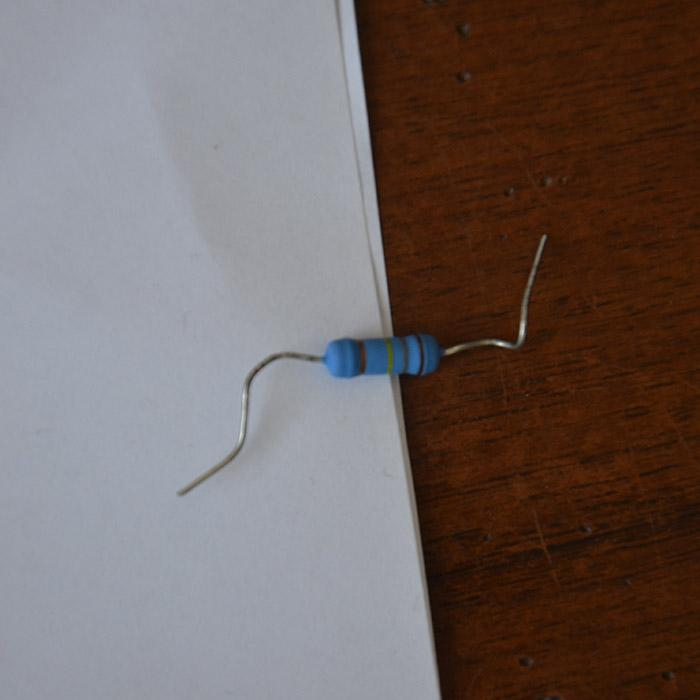resistor: (323, 332, 441, 378)
